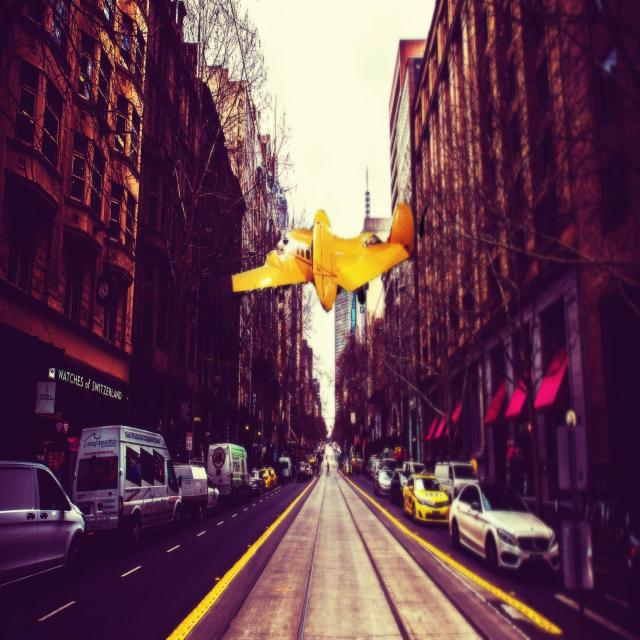airplane: (220, 202, 414, 312)
